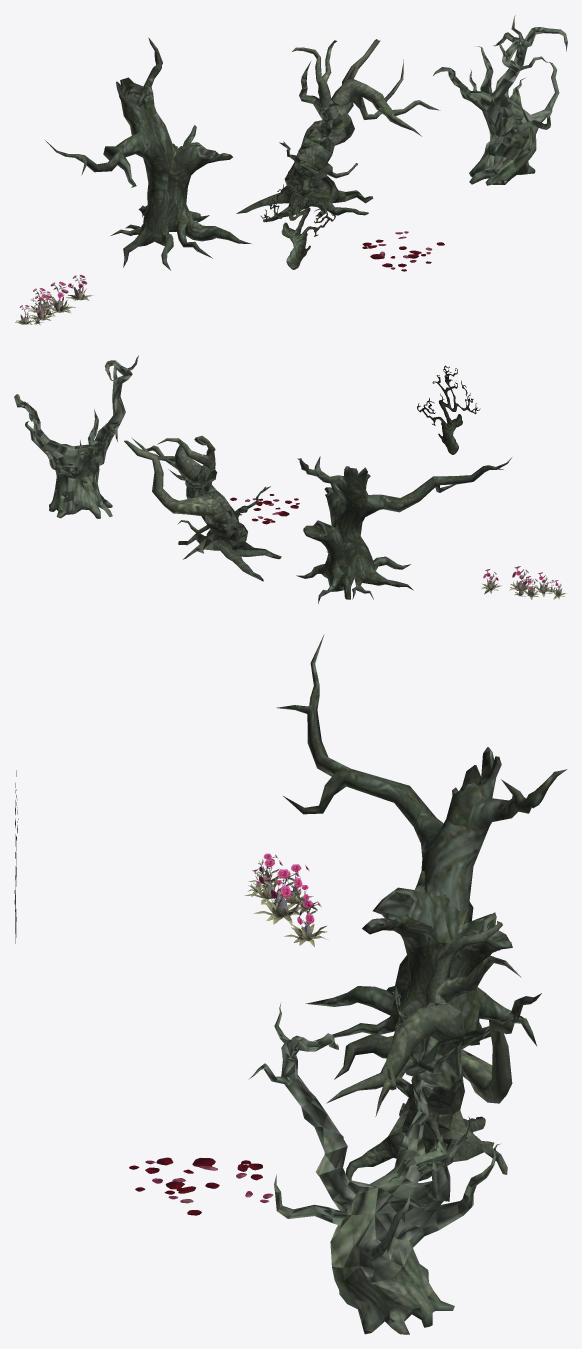
The model's file is f_1113_floor_tree.FBX.
3 views of the same model, one above another, from view 1: azimuth 30°, elevation 25°; view 2: azimuth 150°, elevation 25°; view 3: azimuth 270°, elevation 25° (orthographic). The views are drawn at different scales.
Visible parts, largest first — view 1: f_floor_1113_tree01, f_floor_1113_tree02, Object001, Object002, f_1113_floor_b004, f_1107_Plane; view 2: f_floor_1113_tree01, f_floor_1113_tree02, Object001, Object002, f_1113_floor_b004, f_1107_Plane; view 3: f_floor_1113_tree01, Object001, f_floor_1113_tree02, f_1113_floor_b004, f_1107_Plane.
Part boxes in pixels (left/top/right/bottom): f_floor_1113_tree01: left=45, top=37, right=251, bottom=270; f_floor_1113_tree02: left=236, top=39, right=440, bottom=222; Object001: left=433, top=15, right=567, bottom=185; Object002: left=261, top=167, right=335, bottom=269; f_1113_floor_b004: left=15, top=281, right=75, bottom=325; f_1107_Plane: left=362, top=231, right=444, bottom=271; f_floor_1113_tree01: left=296, top=456, right=511, bottom=603; f_floor_1113_tree02: left=124, top=435, right=281, bottom=581; Object001: left=14, top=355, right=138, bottom=518; Object002: left=417, top=365, right=480, bottom=454; f_1113_floor_b004: left=509, top=566, right=566, bottom=599; f_1107_Plane: left=230, top=494, right=299, bottom=524; f_floor_1113_tree01: left=276, top=634, right=567, bottom=1079; Object001: left=248, top=1002, right=500, bottom=1334; f_floor_1113_tree02: left=326, top=921, right=541, bottom=1181; f_1113_floor_b004: left=244, top=853, right=317, bottom=925; f_1107_Plane: left=129, top=1157, right=273, bottom=1215.
Size of the model in its own units: 1771 by 499 by 843.
